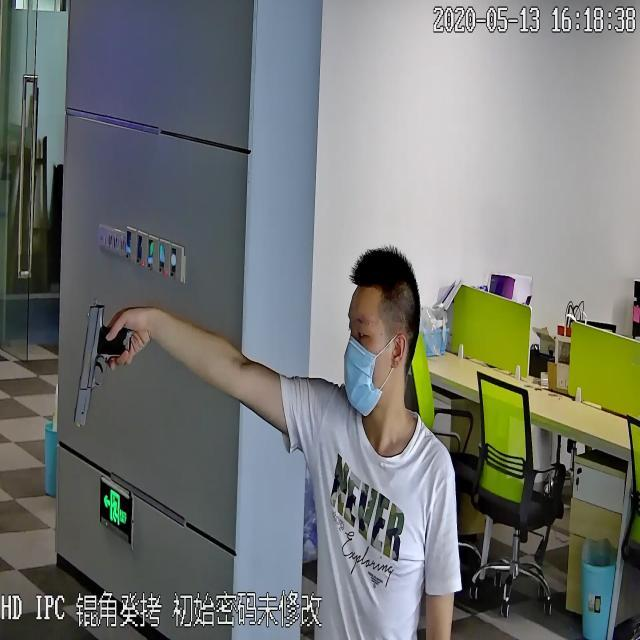gun: (67, 298, 137, 417)
